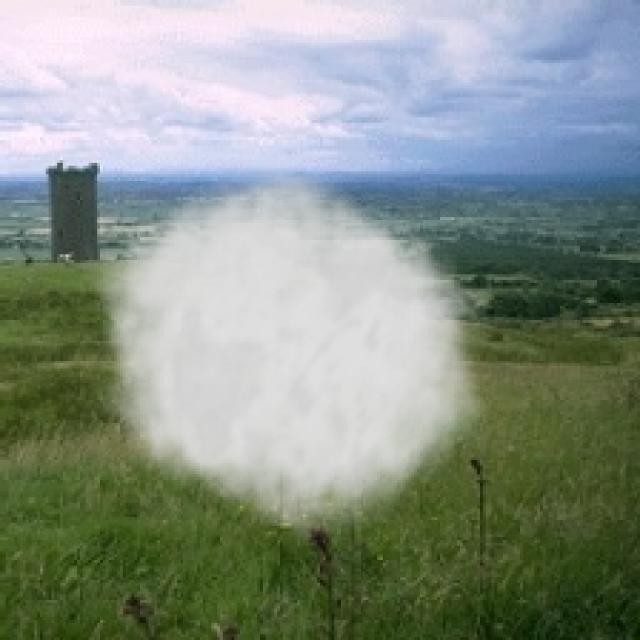Smoke: (80, 157, 492, 549)
